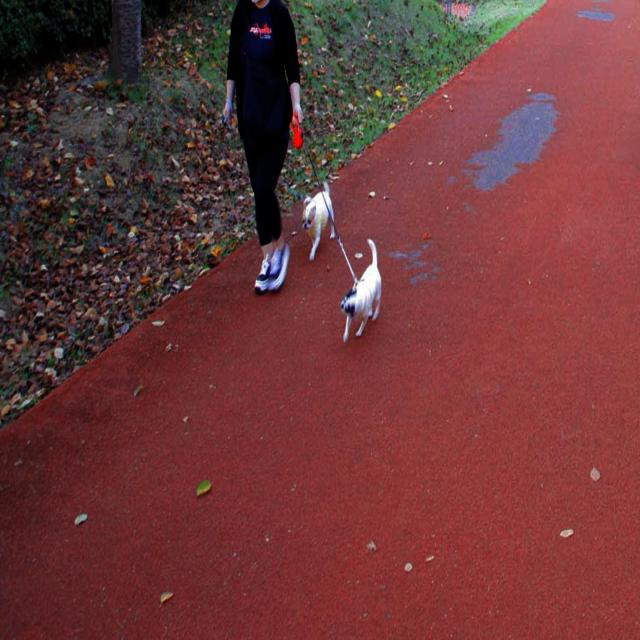Leashed_Dog: (266, 100, 382, 343), (266, 98, 336, 264)
